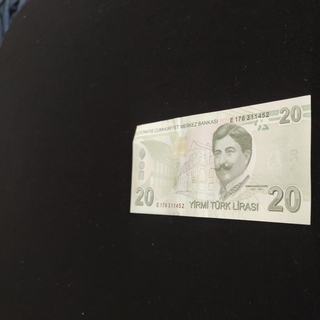20TLBack: (129, 94, 313, 225)
